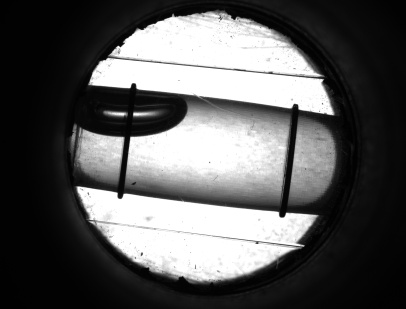line: (276, 126, 300, 199), (115, 143, 133, 178)
